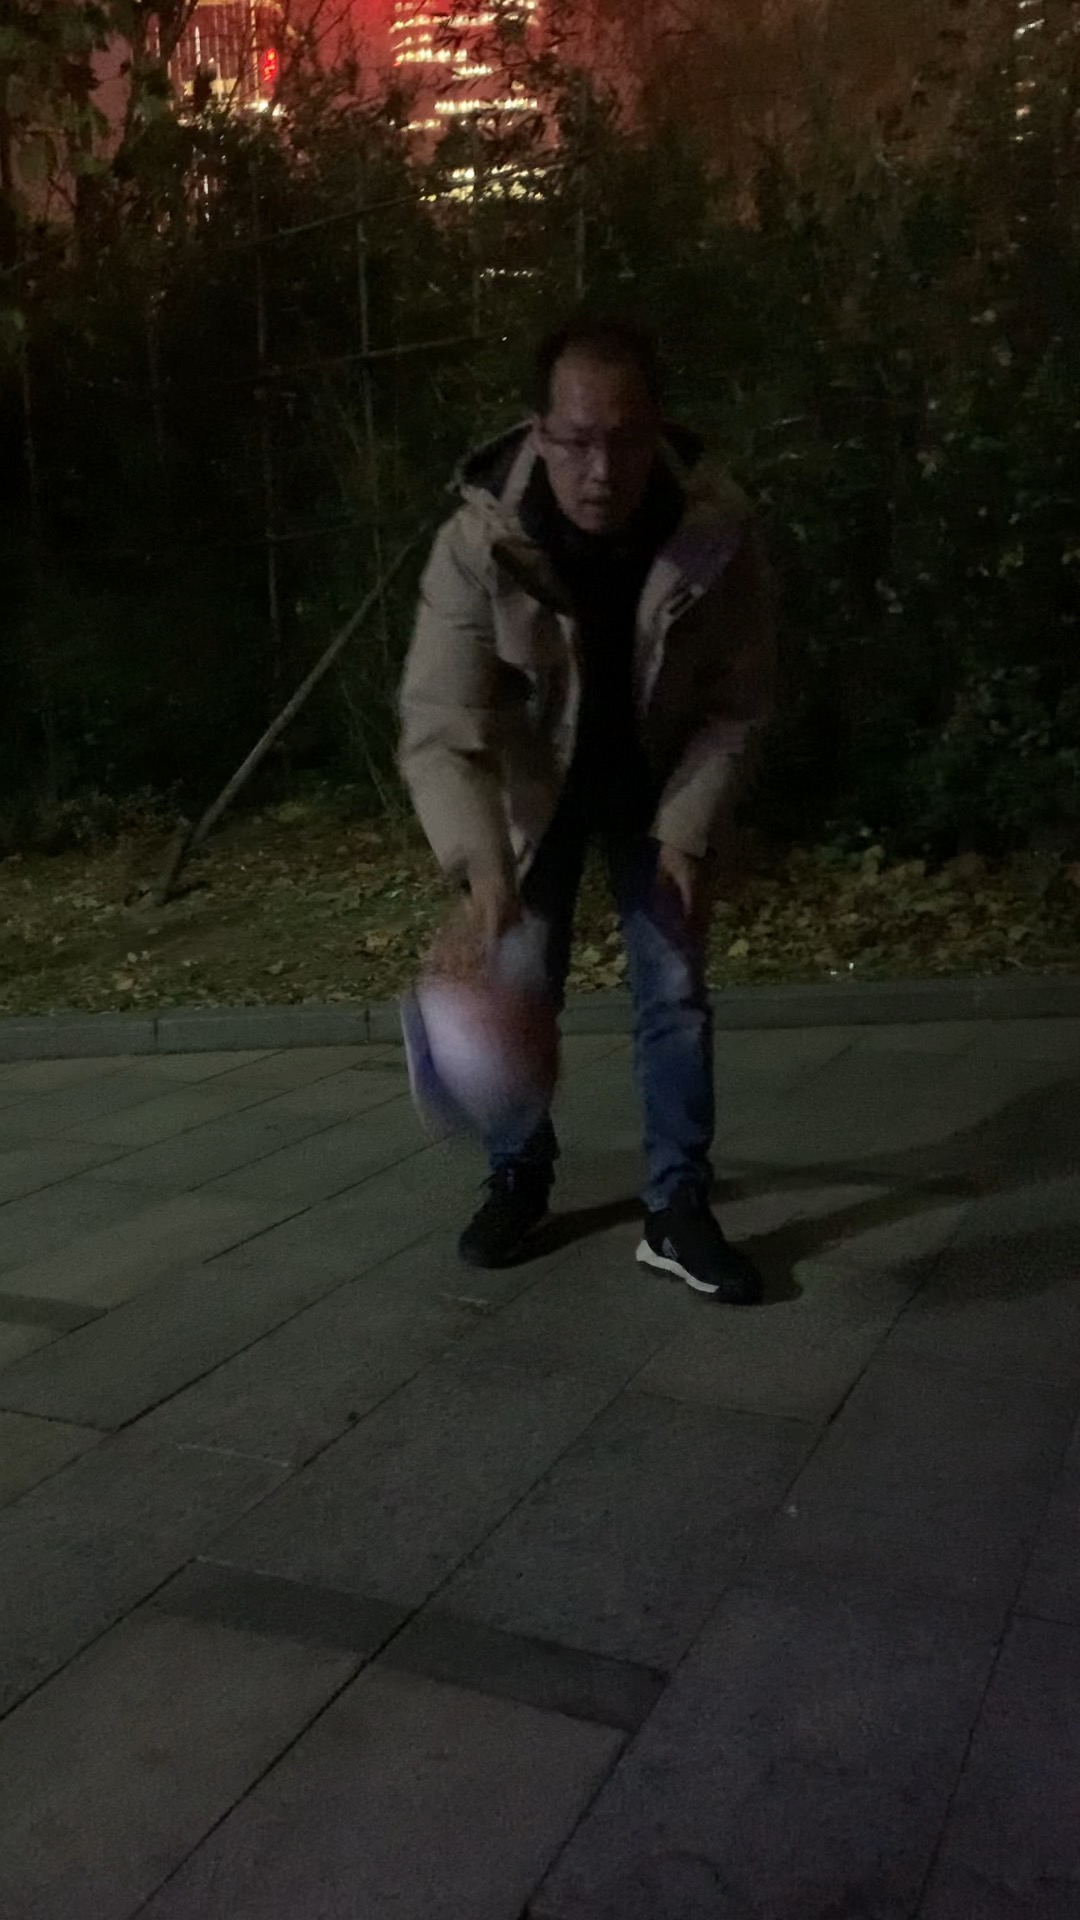ball: (404, 975, 571, 1141)
